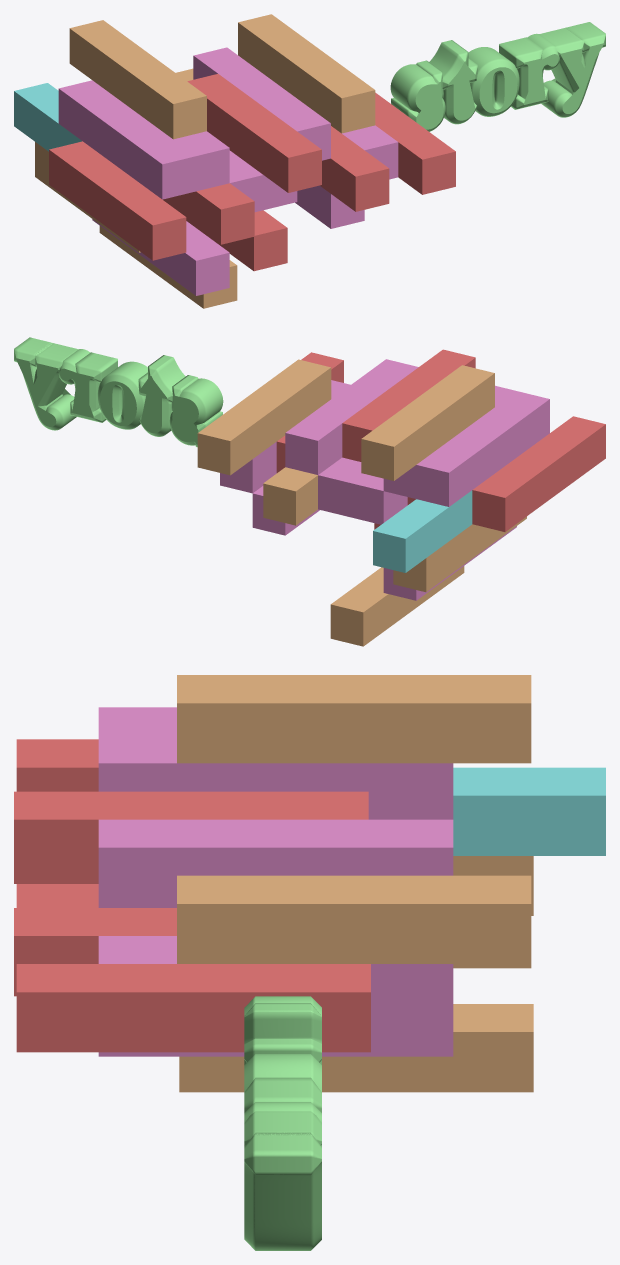
The model's file is task.fbx.
The picture shows the model from 3 angles, top to bottom: view 1: azimuth 30°, elevation 25°; view 2: azimuth 150°, elevation 25°; view 3: azimuth 270°, elevation 25°; orthographic projection. The views are drawn at different scales.
Visible parts, largest first — view 1: polySurface8, pCube142, pCube141, pCube151, pCube148, pCube145, pCube146, pCube139, pCube137, pCube133, pCube126, pCube132 (+8 smaller); view 2: polySurface8, pCube141, pCube151, pCube142, pCube148, pCube146, pCube132, pCube152, pCube145, pCube125, pCube136, pCube134 (+6 smaller); view 3: pCube148, pCube151, pCube139, pCube146, polySurface8, pCube145, pCube143, pCube152, pCube132, pCube138, pCube137, pCube141 (+4 smaller).
Boxes of the visible parts, x1,y1,x2,y2 form: polySurface8: (390, 22, 605, 131); pCube142: (58, 80, 195, 199); pCube141: (49, 141, 186, 260); pCube151: (69, 20, 206, 139); pCube148: (238, 14, 375, 133); pCube145: (187, 74, 321, 192); pCube146: (193, 47, 330, 160); pCube139: (375, 92, 455, 194); pCube137: (320, 126, 389, 211); pCube133: (163, 183, 254, 244); pCube126: (92, 219, 229, 295); pCube132: (14, 83, 82, 151); polySurface8: (14, 337, 223, 447); pCube141: (472, 416, 605, 531); pCube151: (361, 365, 494, 480); pCube142: (416, 391, 549, 506); pCube148: (197, 359, 331, 475); pCube146: (285, 359, 418, 474); pCube132: (373, 490, 472, 572); pCube152: (330, 566, 464, 646); pCube145: (342, 349, 475, 461); pCube125: (393, 516, 526, 592); pCube136: (263, 467, 317, 525); pCube134: (351, 474, 407, 524); pCube148: (177, 875, 531, 963); pCube151: (177, 675, 531, 763); pCube139: (16, 964, 370, 1052); pCube146: (98, 819, 453, 907); polySurface8: (244, 996, 321, 1250); pCube145: (14, 791, 368, 879); pCube143: (98, 735, 453, 819); pCube152: (179, 1004, 533, 1092); pCube132: (453, 767, 605, 855); pCube138: (98, 936, 453, 1024); pCube137: (14, 908, 176, 996); pCube141: (16, 739, 98, 791).
Bounding box in the file's own units: 4.66 × 1.81 × 2.67.
